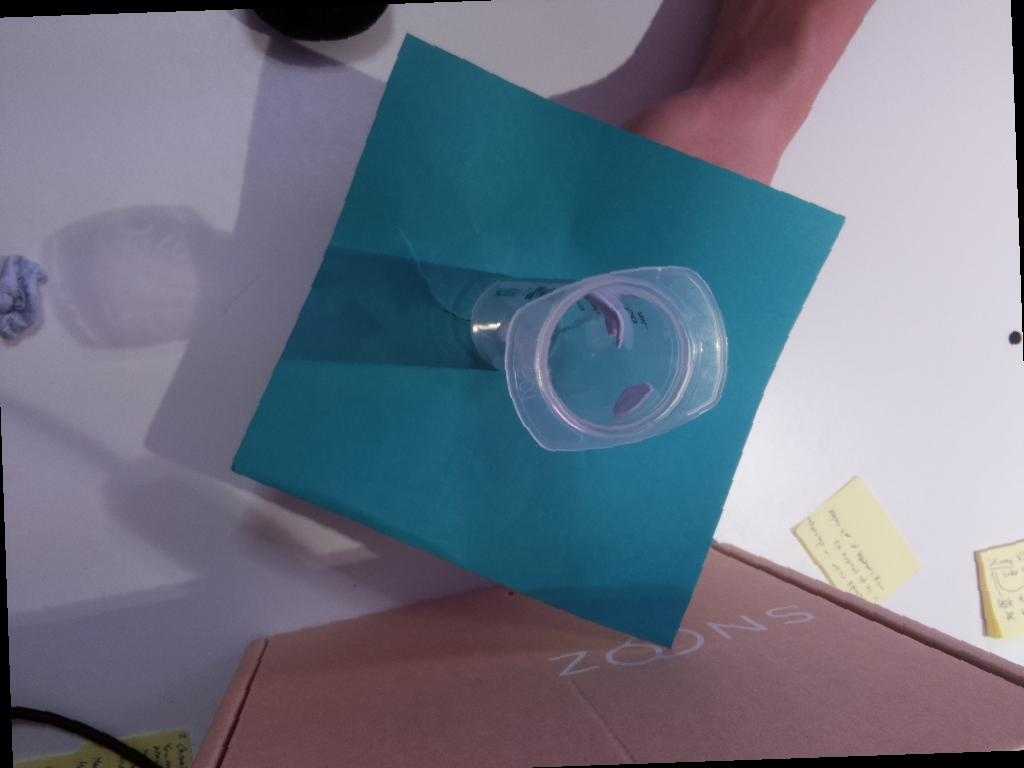dirty: (505, 268, 730, 452)
